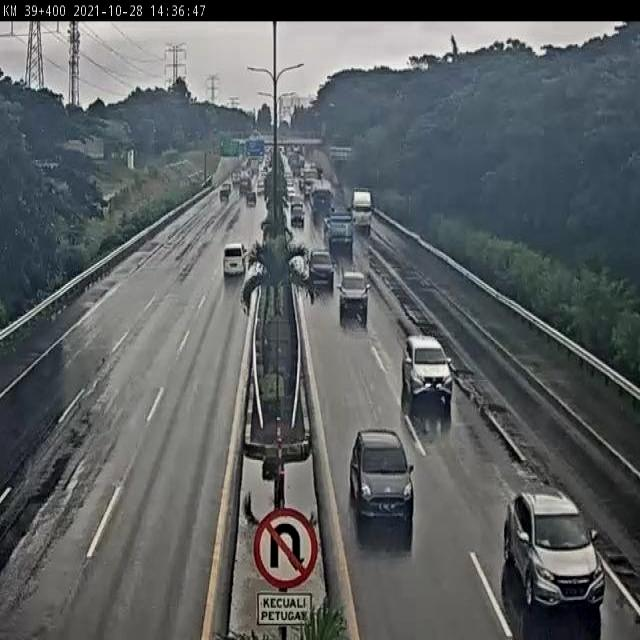Car: (501, 486, 607, 612), (348, 430, 414, 528), (400, 334, 455, 408), (337, 270, 371, 318), (307, 250, 336, 286)
Truck: (322, 204, 356, 254), (347, 187, 375, 236), (308, 178, 336, 225), (302, 168, 318, 198), (290, 201, 305, 229), (238, 168, 253, 193), (250, 158, 260, 173)
Van: (222, 241, 247, 278)
